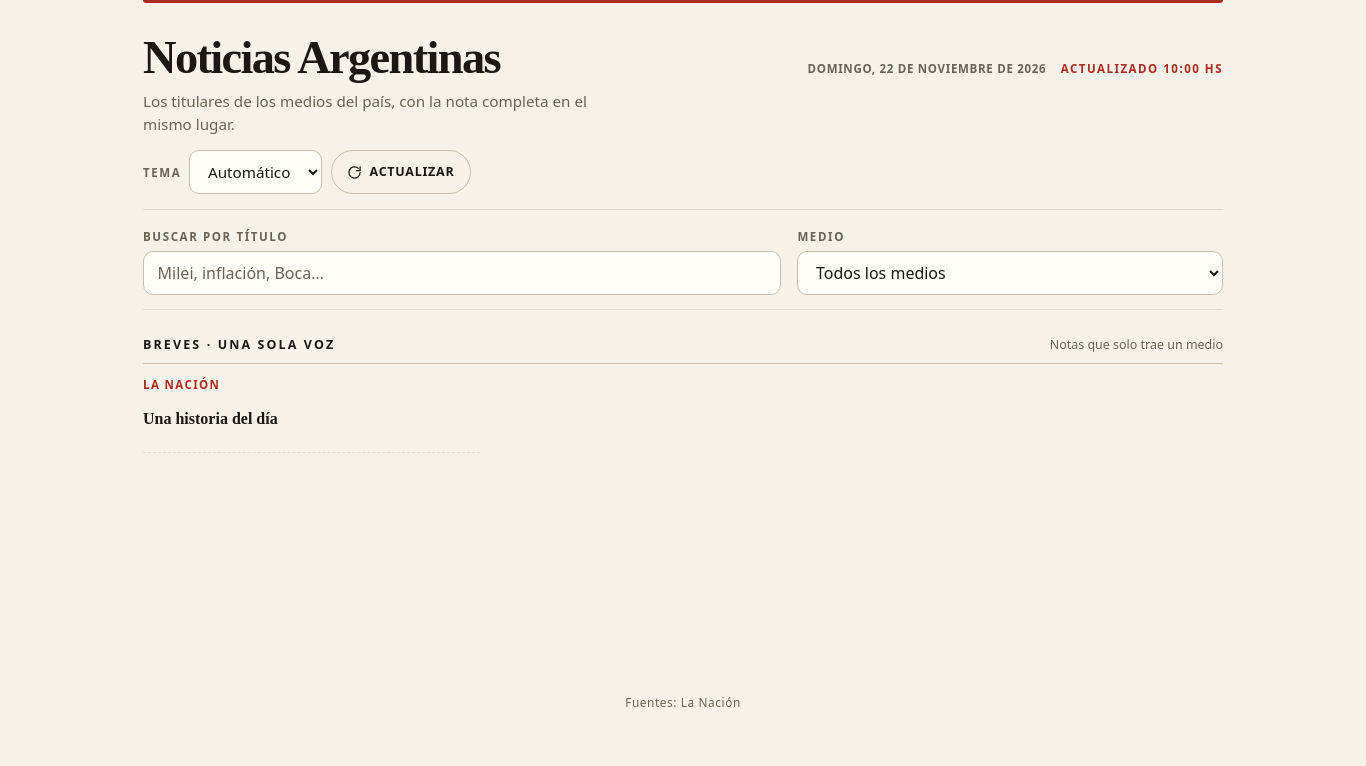
App summary integration › generates and shows the summary after pressing the button
The width and height of the screenshot is (1366, 766).
Click the button "Una historia del día" at [210, 419], box [143,397,480,441]
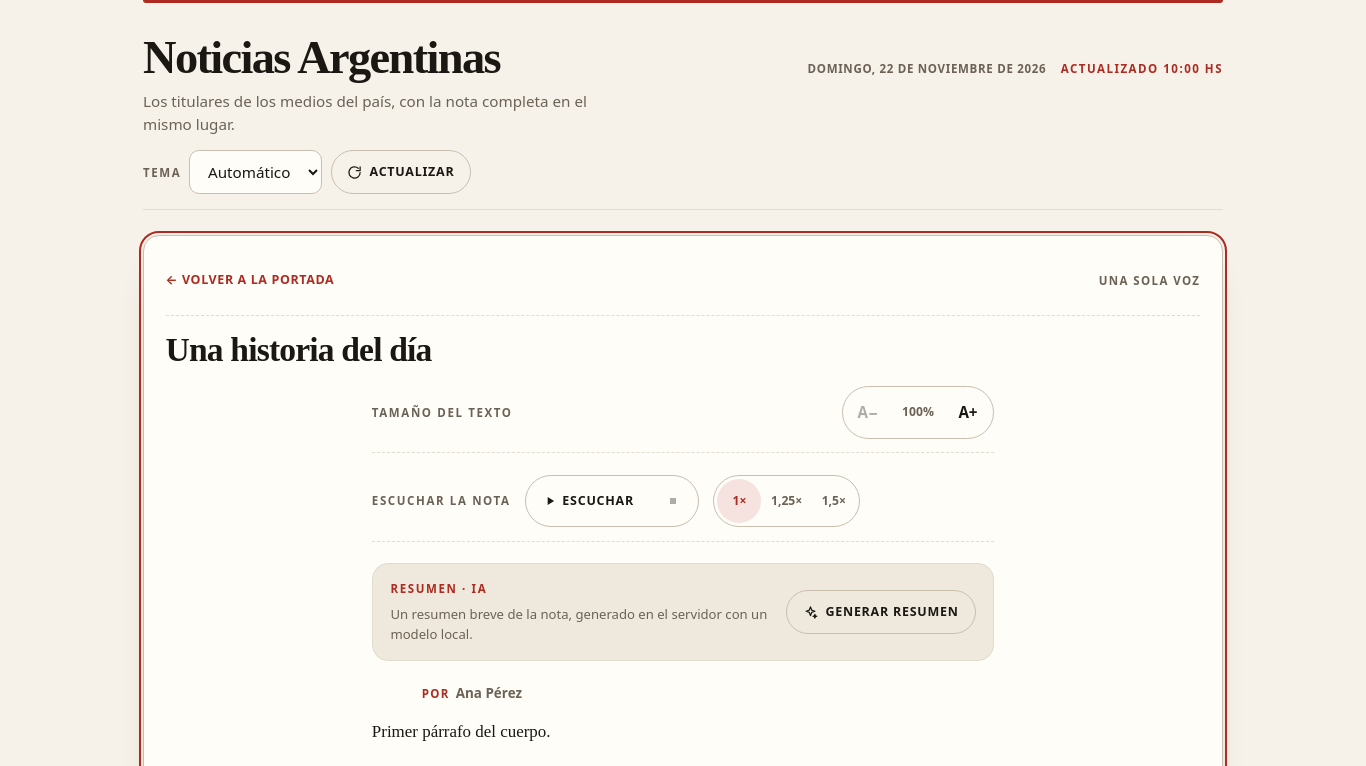
Expected: the text "Primer párrafo del cuerpo." is shown, [372,722,550,741]
Click the button "Generar resumen" at [881, 612], box [786,590,976,634]
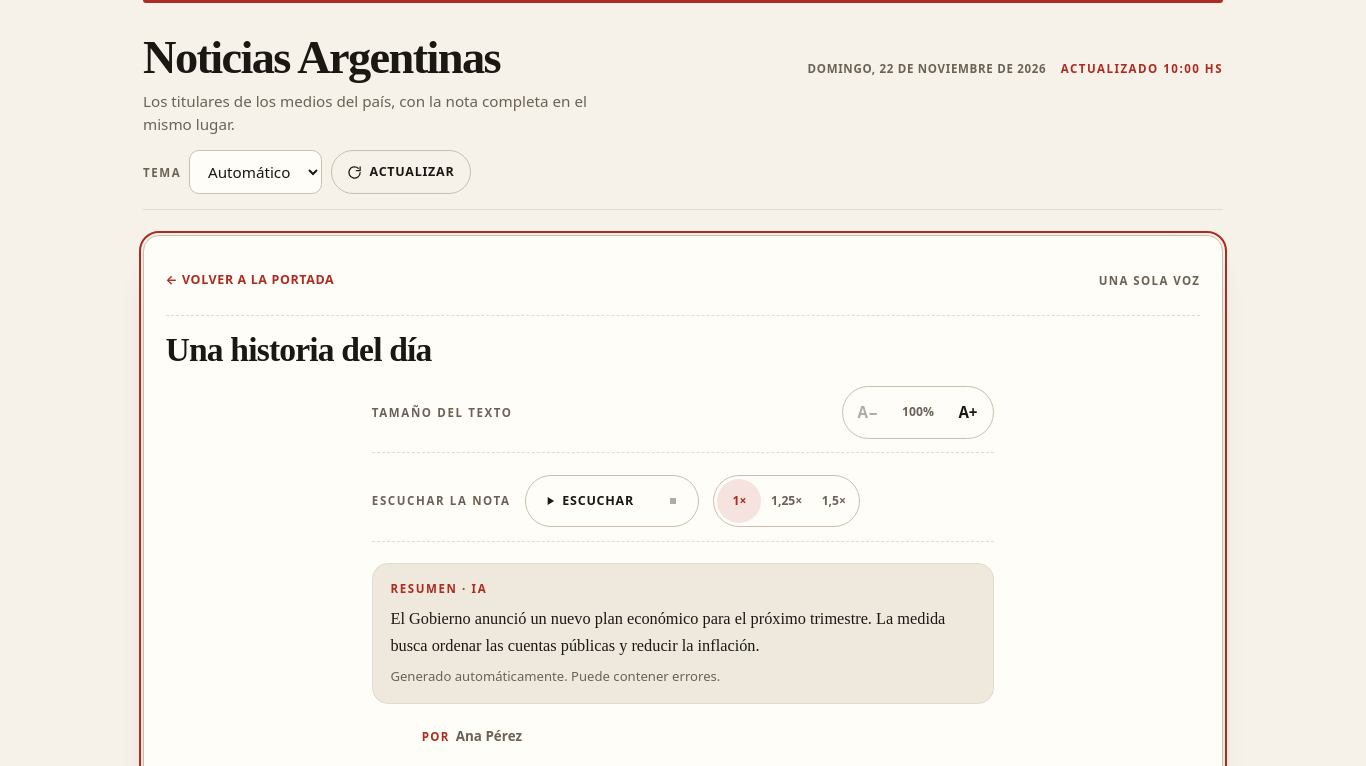
Expected: the button "Generar resumen" is gone
